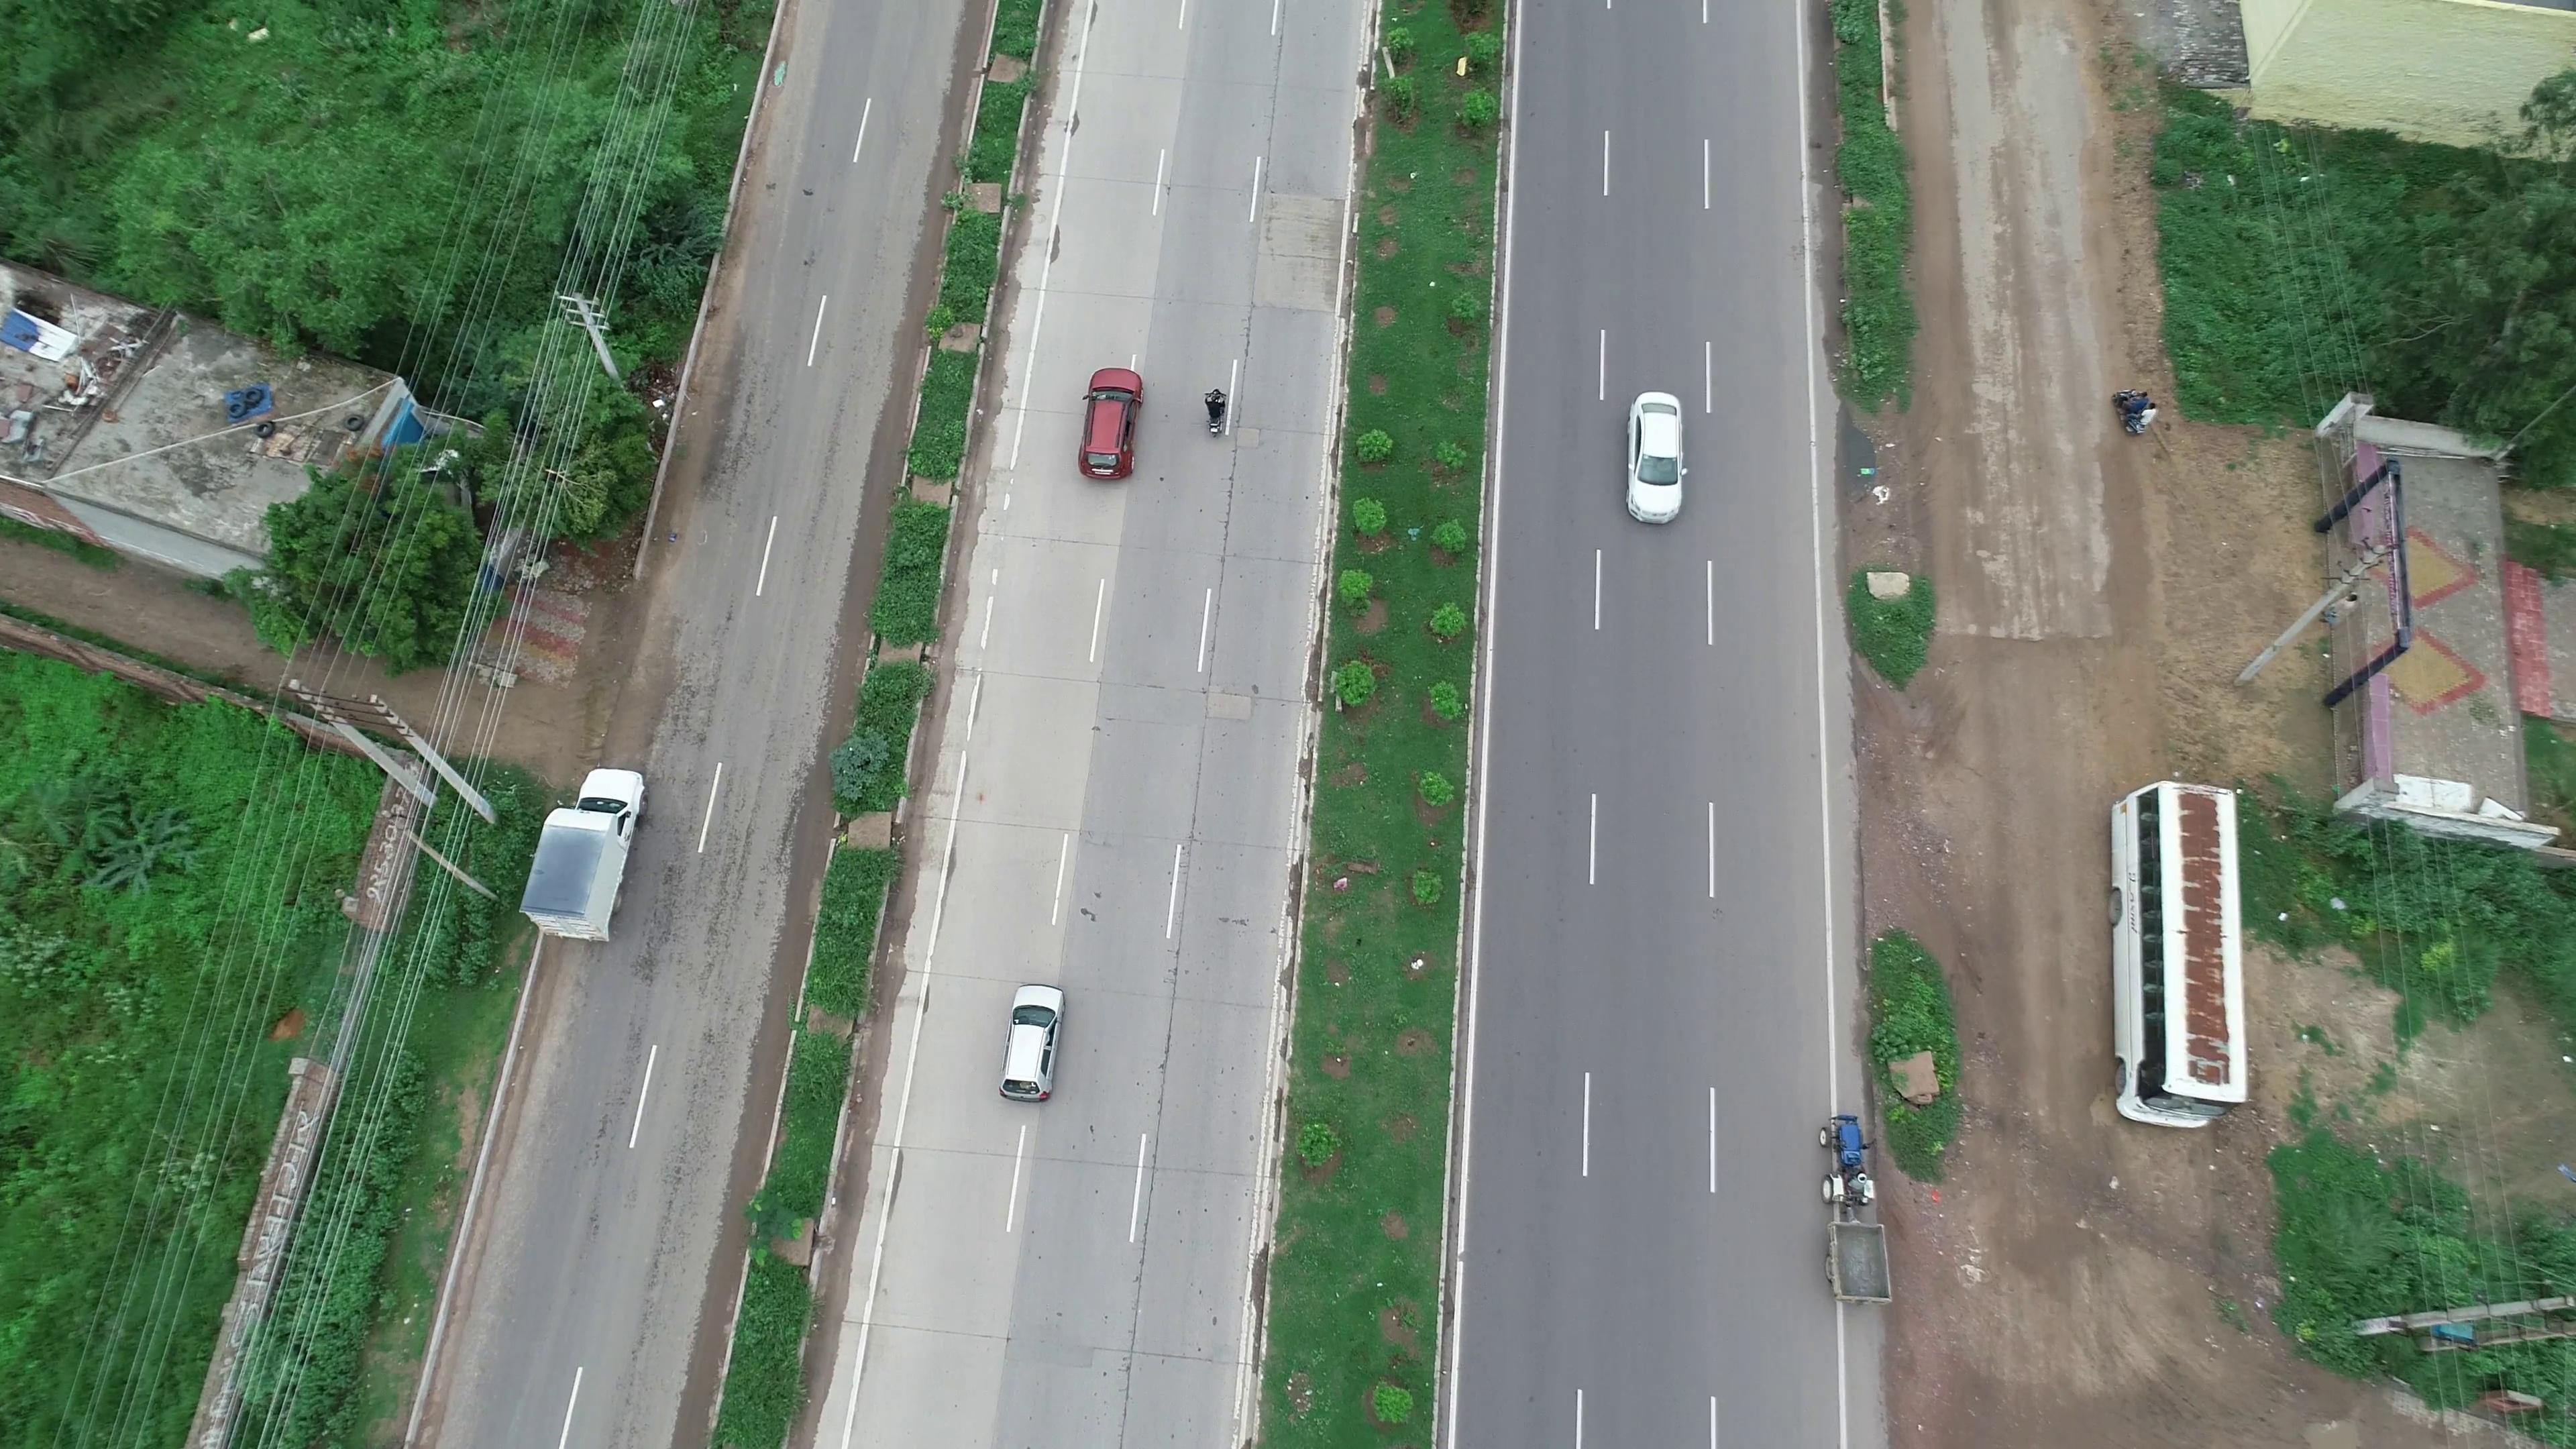Muddy_road: (1891, 970, 2116, 1426), (1879, 502, 2098, 936)
